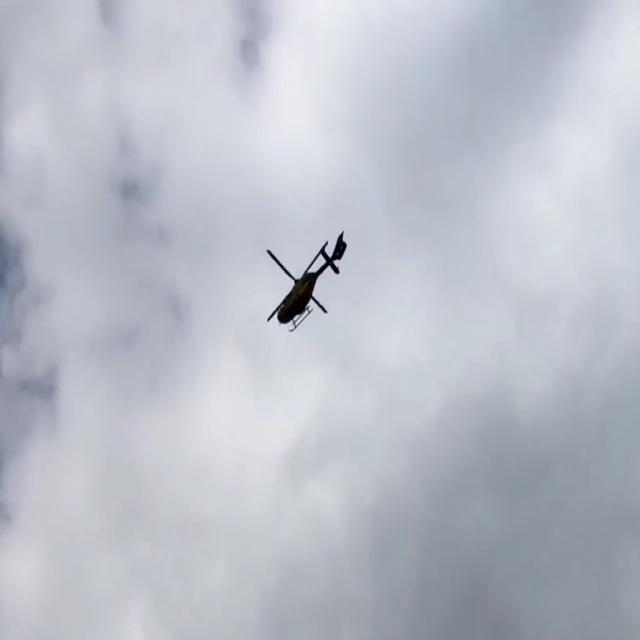Helicopter: (248, 221, 362, 344)
